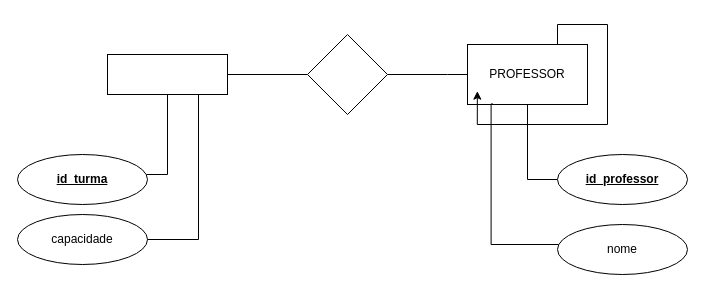
This 705x292 diagram has some shape labels left out. Here are the shapes that lost their labels. From the top down, the centre of each, then its label:
At pixel 167 74: "TURMA".
At pixel 347 74: "contem".
